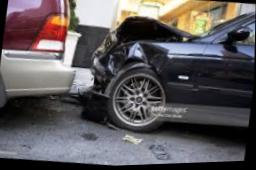Bonnet: (91, 17, 199, 63)
Bumper: (76, 83, 111, 125)
Fender: (89, 42, 211, 92)
